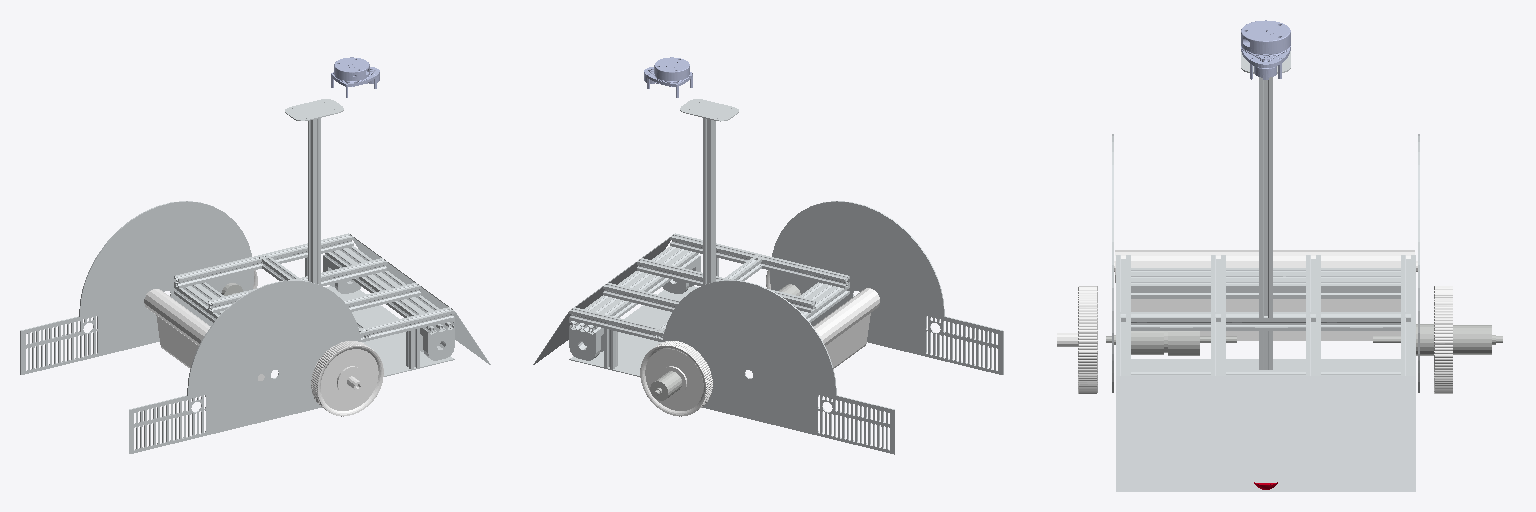
URDF robot description (artpark):
<?xml version="1.0" encoding="utf-8"?>
<!-- This URDF was automatically created by SolidWorks to URDF Exporter! Originally created by [author] ([email redacted]) 
     Commit Version: 1.5.1-0-g916b5db  Build Version: 1.5.7152.31018
     For more information, please see http://wiki.ros.org/sw_urdf_exporter -->
<robot
  name="artpark">
  <link
    name="base_link">
    <inertial>
      <origin
        xyz="0.0054181 3.1494E-05 0.074438"
        rpy="0 0 0" />
      <mass
        value="3.6566" />
      <inertia
        ixx="0.093914"
        ixy="8.6818E-06"
        ixz="-0.0082304"
        iyy="0.090755"
        iyz="3.4188E-06"
        izz="0.13406" />
    </inertial>
    <visual>
      <origin
        xyz="0 0 0"
        rpy="0 0 0" />
      <geometry>
        <mesh
          filename="package://artpark/meshes/base_link.STL" />
      </geometry>
      <material
        name="">
        <color
          rgba="0.89804 0.91765 0.92941 1" />
      </material>
    </visual>
    <collision>
      <origin
        xyz="0 0 0"
        rpy="0 0 0" />
      <geometry>
        <mesh
          filename="package://artpark/meshes/base_link.STL" />
      </geometry>
    </collision>
  </link>
  <link
    name="chassis">
    <inertial>
      <origin
        xyz="0.0054181 3.1494E-05 0.074438"
        rpy="0 0 0" />
      <mass
        value="3.6566" />
      <inertia
        ixx="0.093914"
        ixy="8.6818E-06"
        ixz="-0.0082304"
        iyy="0.090755"
        iyz="3.4188E-06"
        izz="0.13406" />
    </inertial>
    <visual>
      <origin
        xyz="0 0 0"
        rpy="0 0 0" />
      <geometry>
        <mesh
          filename="package://artpark/meshes/chassis.STL" />
      </geometry>
      <material
        name="">
        <color
          rgba="0.89804 0.91765 0.92941 1" />
      </material>
    </visual>
    <collision>
      <origin
        xyz="0 0 0"
        rpy="0 0 0" />
      <geometry>
        <mesh
          filename="package://artpark/meshes/chassis.STL" />
      </geometry>
    </collision>
  </link>
  <joint
    name="base"
    type="fixed">
    <origin
      xyz="0 0 0"
      rpy="0 0 0" />
    <parent
      link="base_link" />
    <child
      link="chassis" />
    <axis
      xyz="0 0 0" />
  </joint>
  <link
    name="side_plate1">
    <inertial>
      <origin
        xyz="8.3267E-17 -0.0015 -8.3267E-17"
        rpy="0 0 0" />
      <mass
        value="0.8912" />
      <inertia
        ixx="0.0055992"
        ixy="-9.938E-17"
        ixz="0.0011538"
        iyy="0.018787"
        iyz="4.2411E-17"
        izz="0.013189" />
    </inertial>
    <visual>
      <origin
        xyz="0 0 0"
        rpy="0 0 0" />
      <geometry>
        <mesh
          filename="package://artpark/meshes/side_plate1.STL" />
      </geometry>
      <material
        name="">
        <color
          rgba="0.89804 0.91765 0.92941 1" />
      </material>
    </visual>
    <collision>
      <origin
        xyz="0 0 0"
        rpy="0 0 0" />
      <geometry>
        <mesh
          filename="package://artpark/meshes/side_plate1.STL" />
      </geometry>
    </collision>
  </link>
  <joint
    name="sp1"
    type="fixed">
    <origin
      xyz="-0.27395 0.213 0.09851"
      rpy="0 0 0" />
    <parent
      link="chassis" />
    <child
      link="side_plate1" />
    <axis
      xyz="0 0 0" />
  </joint>
  <link
    name="picker">
    <inertial>
      <origin
        xyz="-0.0081479 0.003007 -0.030744"
        rpy="0 0 0" />
      <mass
        value="1.3054" />
      <inertia
        ixx="0.019919"
        ixy="2.7653E-05"
        ixz="-0.00040516"
        iyy="0.0018485"
        iyz="0.00010428"
        izz="0.018506" />
    </inertial>
    <visual>
      <origin
        xyz="0 0 0"
        rpy="0 0 0" />
      <geometry>
        <mesh
          filename="package://artpark/meshes/picker.STL" />
      </geometry>
      <material
        name="">
        <color
          rgba="1 1 1 1" />
      </material>
    </visual>
    <collision>
      <origin
        xyz="0 0 0"
        rpy="0 0 0" />
      <geometry>
        <mesh
          filename="package://artpark/meshes/picker.STL" />
      </geometry>
    </collision>
  </link>
  <joint
    name="pic"
    type="continuous">
    <origin
      xyz="-0.015668 -0.21352 -0.027594"
      rpy="0 0 0" />
    <parent
      link="side_plate1" />
    <child
      link="picker" />
    <axis
      xyz="0 -1 0" />
    <transmission name="pic_trans">
    <type>transmission_interface/SimpleTransmission</type>
    <joint name="pic">
      <hardwareInterface>hardware_interface/EffortJointInterface</hardwareInterface>
    </joint>
    <actuator name="pic_motor"></actuator>
  </transmission>
  </joint>
  <link
    name="side_plate2">
    <inertial>
      <origin
        xyz="-8.3267E-17 0.0015 2.7756E-17"
        rpy="0 0 0" />
      <mass
        value="0.8912" />
      <inertia
        ixx="0.0055992"
        ixy="-7.0634E-18"
        ixz="0.0011538"
        iyy="0.018787"
        iyz="3.4177E-17"
        izz="0.013189" />
    </inertial>
    <visual>
      <origin
        xyz="0 0 0"
        rpy="0 0 0" />
      <geometry>
        <mesh
          filename="package://artpark/meshes/side_plate2.STL" />
      </geometry>
      <material
        name="">
        <color
          rgba="0.89804 0.91765 0.92941 1" />
      </material>
    </visual>
    <collision>
      <origin
        xyz="0 0 0"
        rpy="0 0 0" />
      <geometry>
        <mesh
          filename="package://artpark/meshes/side_plate2.STL" />
      </geometry>
    </collision>
  </link>
  <joint
    name="sp2"
    type="fixed">
    <origin
      xyz="-0.27395 -0.213 0.09851"
      rpy="0 0 0" />
    <parent
      link="chassis" />
    <child
      link="side_plate2" />
    <axis
      xyz="0 0 0" />
  </joint>
  <link
    name="motor1">
    <inertial>
      <origin
        xyz="0 -0.080765 -4.8572E-16"
        rpy="0 0 0" />
      <mass
        value="1.1451" />
      <inertia
        ixx="0.0016251"
        ixy="2.1834E-20"
        ixz="-1.5767E-21"
        iyy="0.00025812"
        iyz="-8.3292E-18"
        izz="0.0016251" />
    </inertial>
    <visual>
      <origin
        xyz="0 0 0"
        rpy="0 0 0" />
      <geometry>
        <mesh
          filename="package://artpark/meshes/motor1.STL" />
      </geometry>
      <material
        name="">
        <color
          rgba="0.83137 0.83922 0.83137 1" />
      </material>
    </visual>
    <collision>
      <origin
        xyz="0 0 0"
        rpy="0 0 0" />
      <geometry>
        <mesh
          filename="package://artpark/meshes/motor1.STL" />
      </geometry>
    </collision>
  </link>
  <joint
    name="m1"
    type="fixed">
    <origin
      xyz="-0.11085 0.176 0.038"
      rpy="0 0 0" />
    <parent
      link="chassis" />
    <child
      link="motor1" />
    <axis
      xyz="0 0 0" />
  </joint>
  <link
    name="wheel1">
    <inertial>
      <origin
        xyz="8.2573E-16 -0.0098577 -5.5511E-17"
        rpy="0 0 0" />
      <mass
        value="0.34943" />
      <inertia
        ixx="0.00052614"
        ixy="7.9115E-19"
        ixz="6.1497E-18"
        iyy="0.0010155"
        iyz="2.9998E-18"
        izz="0.00052614" />
    </inertial>
    <visual>
      <origin
        xyz="0 0 0"
        rpy="0 0 0" />
      <geometry>
        <mesh
          filename="package://artpark/meshes/wheel1.STL" />
      </geometry>
      <material
        name="">
        <color
          rgba="1 1 1 1" />
      </material>
    </visual>
    <collision>
      <origin
        xyz="0 0 0"
        rpy="0 0 0" />
      <geometry>
        <mesh
          filename="package://artpark/meshes/wheel1.STL" />
      </geometry>
    </collision>
  </link>
  <joint
    name="w1"
    type="continuous">
    <origin
      xyz="0 0.064701 0"
      rpy="0 0 0" />
    <parent
      link="motor1" />
    <child
      link="wheel1" />
    <axis
      xyz="0 -1 0" />
    <transmission name="W1_trans">
    <type>transmission_interface/SimpleTransmission</type>
    <joint name="w1">
      <hardwareInterface>hardware_interface/EffortJointInterface</hardwareInterface>
    </joint>
    <actuator name="W1_motor"></actuator>
  </transmission>
  </joint>
  <link
    name="motor2">
    <inertial>
      <origin
        xyz="-3.4694E-18 -0.028001 -1.5266E-16"
        rpy="0 0 0" />
      <mass
        value="1.1451" />
      <inertia
        ixx="0.0016251"
        ixy="5.8596E-20"
        ixz="7.5488E-21"
        iyy="0.00025812"
        iyz="-8.3678E-18"
        izz="0.0016251" />
    </inertial>
    <visual>
      <origin
        xyz="0 0 0"
        rpy="0 0 0" />
      <geometry>
        <mesh
          filename="package://artpark/meshes/motor2.STL" />
      </geometry>
      <material
        name="">
        <color
          rgba="0.83137 0.83922 0.83137 1" />
      </material>
    </visual>
    <collision>
      <origin
        xyz="0 0 0"
        rpy="0 0 0" />
      <geometry>
        <mesh
          filename="package://artpark/meshes/motor2.STL" />
      </geometry>
    </collision>
  </link>
  <joint
    name="m2"
    type="fixed">
    <origin
      xyz="-0.11085 -0.067234 0.038"
      rpy="0 0 0" />
    <parent
      link="chassis" />
    <child
      link="motor2" />
    <axis
      xyz="0 0 0" />
  </joint>
  <link
    name="wheel2">
    <inertial>
      <origin
        xyz="7.6675E-16 0.0098577 3.747E-16"
        rpy="0 0 0" />
      <mass
        value="0.34943" />
      <inertia
        ixx="0.00052614"
        ixy="-8.49E-19"
        ixz="4.1041E-17"
        iyy="0.0010155"
        iyz="2.6206E-18"
        izz="0.00052614" />
    </inertial>
    <visual>
      <origin
        xyz="0 0 0"
        rpy="0 0 0" />
      <geometry>
        <mesh
          filename="package://artpark/meshes/wheel2.STL" />
      </geometry>
      <material
        name="">
        <color
          rgba="1 1 1 1" />
      </material>
    </visual>
    <collision>
      <origin
        xyz="0 0 0"
        rpy="0 0 0" />
      <geometry>
        <mesh
          filename="package://artpark/meshes/wheel2.STL" />
      </geometry>
    </collision>
  </link>
  <joint
    name="w2"
    type="continuous">
    <origin
      xyz="0 -0.17347 0"
      rpy="0 0 0" />
    <parent
      link="motor2" />
    <child
      link="wheel2" />
    <axis
      xyz="0 1 0" />
    <transmission name="W2_trans">
    <type>transmission_interface/SimpleTransmission</type>
    <joint name="w2">
      <hardwareInterface>hardware_interface/EffortJointInterface</hardwareInterface>
    </joint>
    <actuator name="W2_motor"></actuator>
  </transmission>
  </joint>
  <link
    name="rplidar">
    <inertial>
      <origin
        xyz="0.0057842 0.00062655 -0.019562"
        rpy="0 0 0" />
      <mass
        value="0.14299" />
      <inertia
        ixx="4.6277E-05"
        ixy="-8.5349E-07"
        ixz="3.6217E-06"
        iyy="7.3474E-05"
        iyz="-2.0431E-07"
        izz="0.00010796" />
    </inertial>
    <visual>
      <origin
        xyz="0 0 0"
        rpy="0 0 0" />
      <geometry>
        <mesh
          filename="package://artpark/meshes/rplidar.STL" />
      </geometry>
      <material
        name="">
        <color
          rgba="0.79216 0.81961 0.93333 1" />
      </material>
    </visual>
    <collision>
      <origin
        xyz="0 0 0"
        rpy="0 0 0" />
      <geometry>
        <mesh
          filename="package://artpark/meshes/rplidar.STL" />
      </geometry>
    </collision>
  </link>
  <joint
    name="rpl1"
    type="fixed">
    <origin
      xyz="0.052154 -0.00013645 0.5646"
      rpy="0 0 0" />
    <parent
      link="chassis" />
    <child
      link="rplidar" />
    <axis
      xyz="0 0 0" />
  </joint>
  <link
    name="castor">
    <inertial>
      <origin
        xyz="4.8962E-07 -3.2749E-07 0.001332"
        rpy="0 0 0" />
      <mass
        value="0.0034759" />
      <inertia
        ixx="3.2924E-07"
        ixy="1.5654E-13"
        ixz="-7.4284E-12"
        iyy="3.2924E-07"
        iyz="3.4552E-12"
        izz="5.808E-07" />
    </inertial>
    <visual>
      <origin
        xyz="0 0 0"
        rpy="0 0 0" />
      <geometry>
        <mesh
          filename="package://artpark/meshes/castor.STL" />
      </geometry>
      <material
        name="">
        <color
          rgba="0.84314 0 0.15294 1" />
      </material>
    </visual>
    <collision>
      <origin
        xyz="0 0 0"
        rpy="0 0 0" />
      <geometry>
        <mesh
          filename="package://artpark/meshes/castor.STL" />
      </geometry>
    </collision>
  </link>
  <joint
    name="c1"
    type="fixed">
    <origin
      xyz="0.22915 0 -0.022236"
      rpy="0 0 0" />
    <parent
      link="chassis" />
    <child
      link="castor" />
    <axis
      xyz="0 0 0" />
  </joint>
  <link
    name="castor_ball">
    <inertial>
      <origin
        xyz="0 0 0"
        rpy="0 0 0" />
      <mass
        value="0.00065958" />
      <inertia
        ixx="7.6934E-09"
        ixy="2.7917E-25"
        ixz="2.2334E-25"
        iyy="7.6934E-09"
        iyz="-1.675E-25"
        izz="7.6934E-09" />
    </inertial>
    <visual>
      <origin
        xyz="0 0 0"
        rpy="0 0 0" />
      <geometry>
        <mesh
          filename="package://artpark/meshes/castor_ball.STL" />
      </geometry>
      <material
        name="">
        <color
          rgba="0.69804 0.69804 0.69804 1" />
      </material>
    </visual>
    <collision>
      <origin
        xyz="0 0 0"
        rpy="0 0 0" />
      <geometry>
        <mesh
          filename="package://artpark/meshes/castor_ball.STL" />
      </geometry>
    </collision>
  </link>
  <joint
    name="b1"
    type="continuous">
    <origin
      xyz="0 0 -0.0071933"
      rpy="0 0 0" />
    <parent
      link="castor" />
    <child
      link="castor_ball" />
    <axis
      xyz="0 1 0" />
  </joint>
</robot>

--- What the picture shows (computed from the rendered views, not written in the file) ---
The picture shows the robot from 3 angles, left to right: view 1: azimuth 30°, elevation 25°; view 2: azimuth 150°, elevation 25°; view 3: azimuth 270°, elevation 25°; orthographic projection.
Robot: artpark — 12 links, 11 joints (4 continuous, 7 fixed); root link base_link; default pose: every joint at zero.
Visible links, largest first — view 1: side_plate2, chassis, side_plate1, wheel2, picker, rplidar; view 2: side_plate1, chassis, side_plate2, wheel1, picker, rplidar, motor1; view 3: chassis, picker, wheel2, rplidar, wheel1, motor1, motor2.
Link boxes in pixels (<box>): side_plate2: <box>129,280,360,453</box>; chassis: <box>174,99,490,376</box>; side_plate1: <box>20,201,253,374</box>; wheel2: <box>311,341,383,416</box>; picker: <box>144,289,264,380</box>; rplidar: <box>331,57,379,97</box>; side_plate1: <box>663,280,894,454</box>; chassis: <box>533,99,849,376</box>; side_plate2: <box>770,201,1003,374</box>; wheel1: <box>640,341,712,416</box>; picker: <box>813,288,879,368</box>; rplidar: <box>644,57,692,97</box>; motor1: <box>650,371,681,400</box>; chassis: <box>1116,51,1415,491</box>; picker: <box>1114,250,1417,340</box>; wheel2: <box>1057,286,1097,393</box>; rplidar: <box>1241,20,1290,79</box>; wheel1: <box>1434,286,1452,393</box>; motor1: <box>1373,324,1502,355</box>; motor2: <box>1106,331,1236,355</box>.
Size in the robot's own frame: 0.8397 by 0.6262 by 0.6266 metres.
Meshes: 12 distinct files referenced, 12 mesh visuals loaded (12 binary STL).